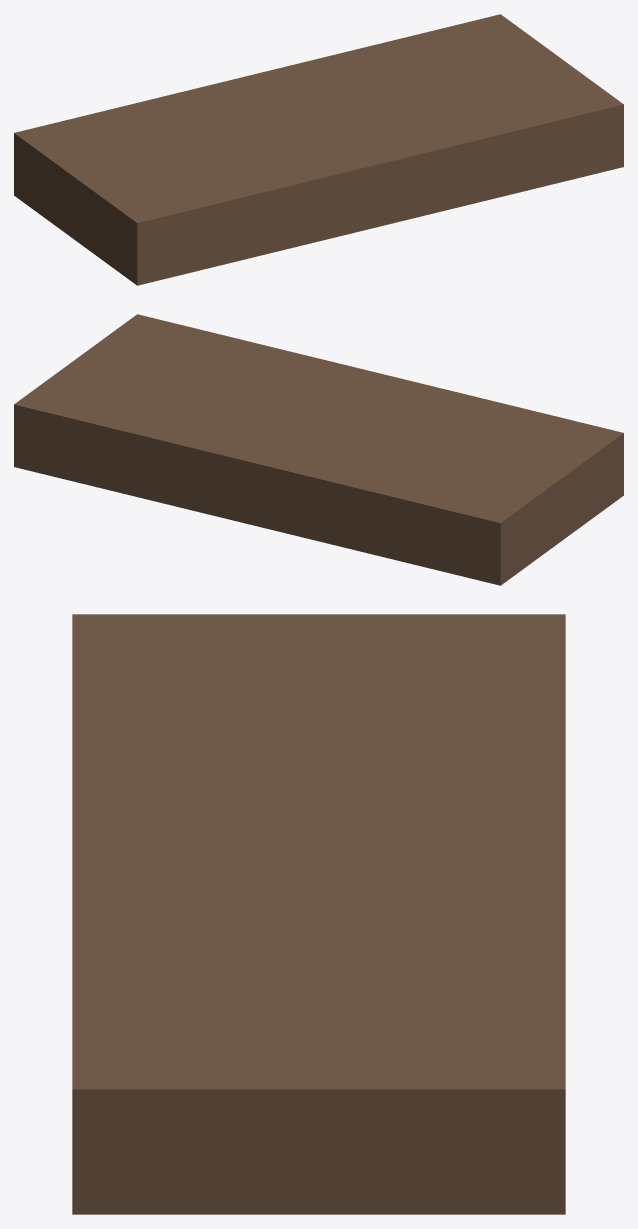
Rendered from Wood.fbx.
The picture shows the model from 3 angles, top to bottom: view 1: azimuth 30°, elevation 25°; view 2: azimuth 150°, elevation 25°; view 3: azimuth 270°, elevation 25°; orthographic projection. The views are drawn at different scales.
Visible parts, largest first — view 1: Wood, Wood.001, Wood.002; view 2: Wood.001, Wood.002, Wood; view 3: Wood.002, Wood.001, Wood.
Part boxes in pixels (left/top/right/bottom): Wood: left=14, top=104, right=623, bottom=285; Wood.001: left=14, top=73, right=380, bottom=285; Wood.002: left=257, top=14, right=623, bottom=163; Wood.001: left=257, top=373, right=623, bottom=585; Wood.002: left=14, top=314, right=380, bottom=526; Wood: left=500, top=473, right=593, bottom=584; Wood.002: left=72, top=852, right=565, bottom=1214; Wood.001: left=72, top=614, right=565, bottom=851; Wood: left=72, top=1089, right=565, bottom=1214.
Bounding box in the file's own units: 200 × 24.56 × 87.79.
